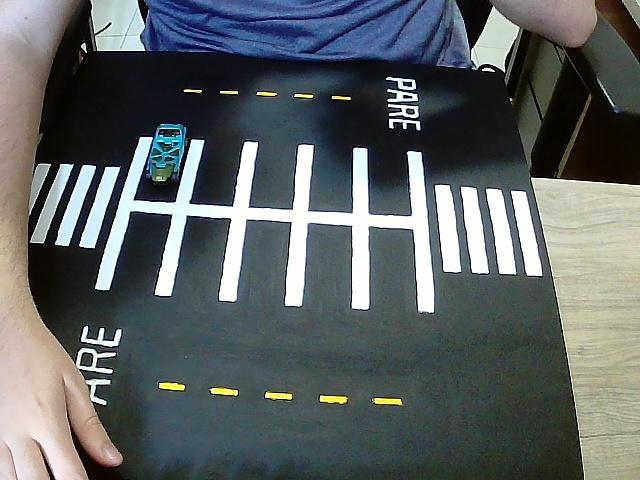Carro: (143, 124, 186, 187)
